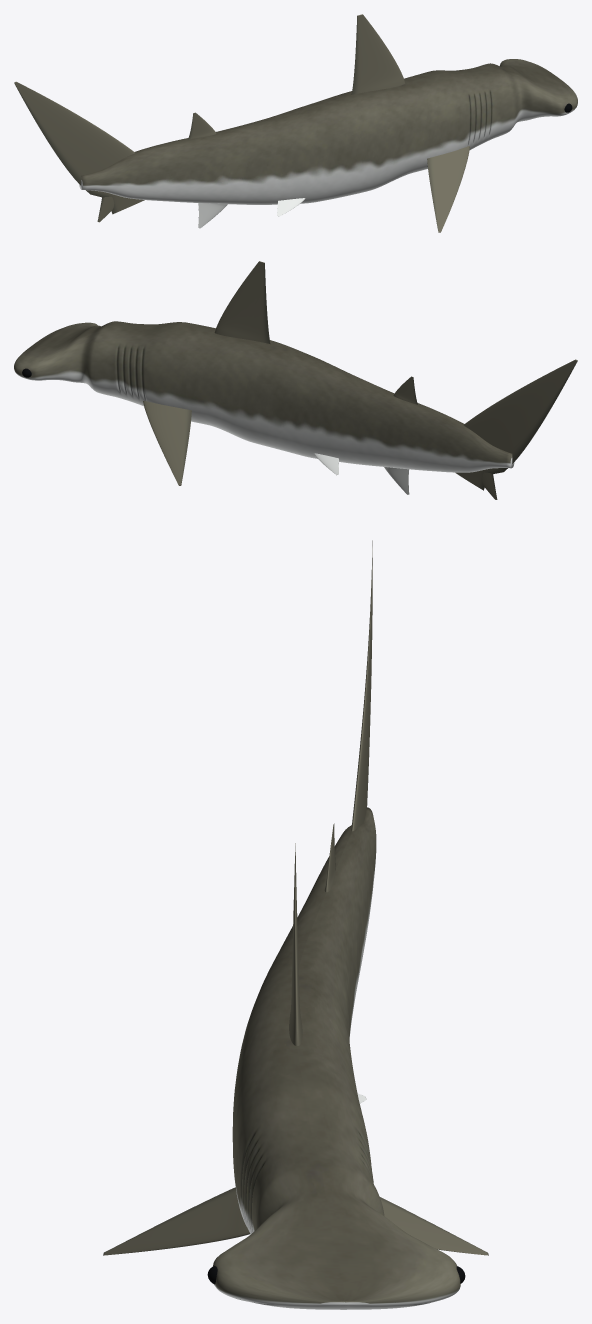
The model's file is bonnethead.glb.
3 views of the same model, one above another, from view 1: azimuth 30°, elevation 25°; view 2: azimuth 150°, elevation 25°; view 3: azimuth 270°, elevation 25° (orthographic). The views are drawn at different scales.
Visible parts, largest first — view 1: Bonnethead_Body, Bonnethead_Fins; view 2: Bonnethead_Body, Bonnethead_Fins; view 3: Bonnethead_Body, Bonnethead_Fins.
Part boxes in pixels (bbox=[...]): Bonnethead_Body: bbox=[79, 59, 577, 204]; Bonnethead_Fins: bbox=[14, 14, 469, 232]; Bonnethead_Body: bbox=[14, 321, 514, 472]; Bonnethead_Fins: bbox=[143, 261, 577, 499]; Bonnethead_Body: bbox=[213, 807, 460, 1309]; Bonnethead_Fins: bbox=[103, 540, 488, 1255].
Bounding box in the file's own units: 0.9 × 0.3038 × 0.2785.
3 materials, 1 textured.
